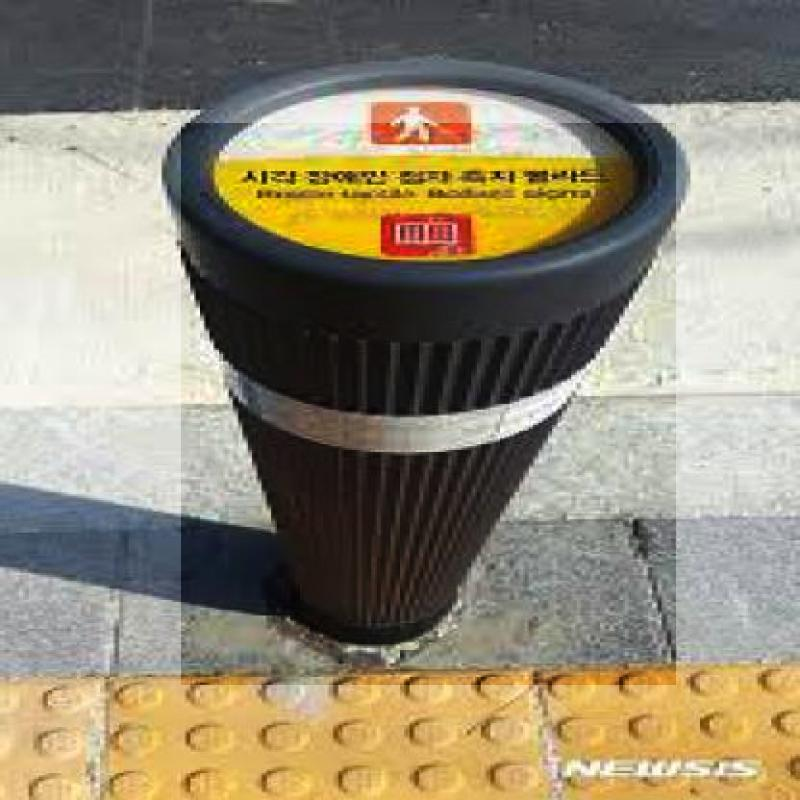bolard: (181, 123, 676, 685)
